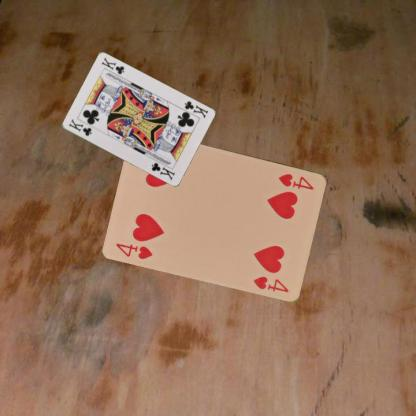4h: (276, 170, 316, 191), (114, 240, 154, 260)
Kc: (66, 116, 93, 138), (182, 98, 209, 120)
